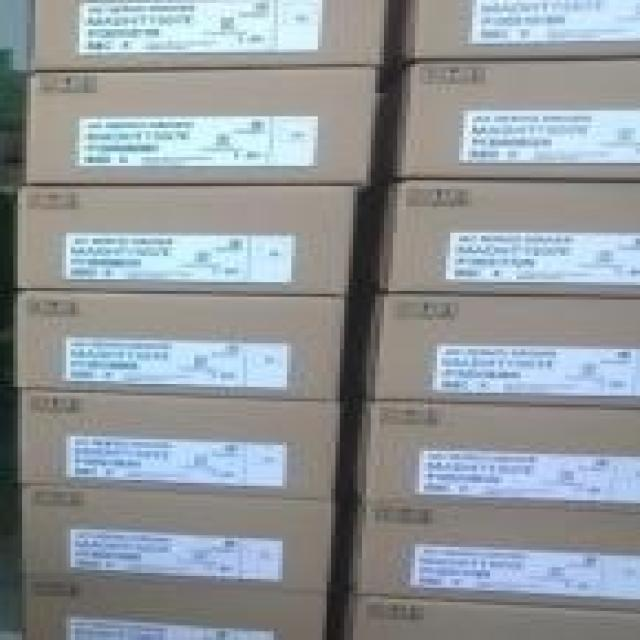box: (22, 67, 375, 186), (358, 61, 640, 195), (13, 186, 353, 297), (13, 291, 344, 401), (340, 291, 640, 407), (335, 401, 640, 515), (349, 180, 640, 297), (327, 506, 640, 614), (18, 393, 340, 497), (18, 489, 331, 591), (31, 0, 388, 73), (375, 0, 640, 90), (18, 579, 322, 637), (327, 596, 640, 640)
